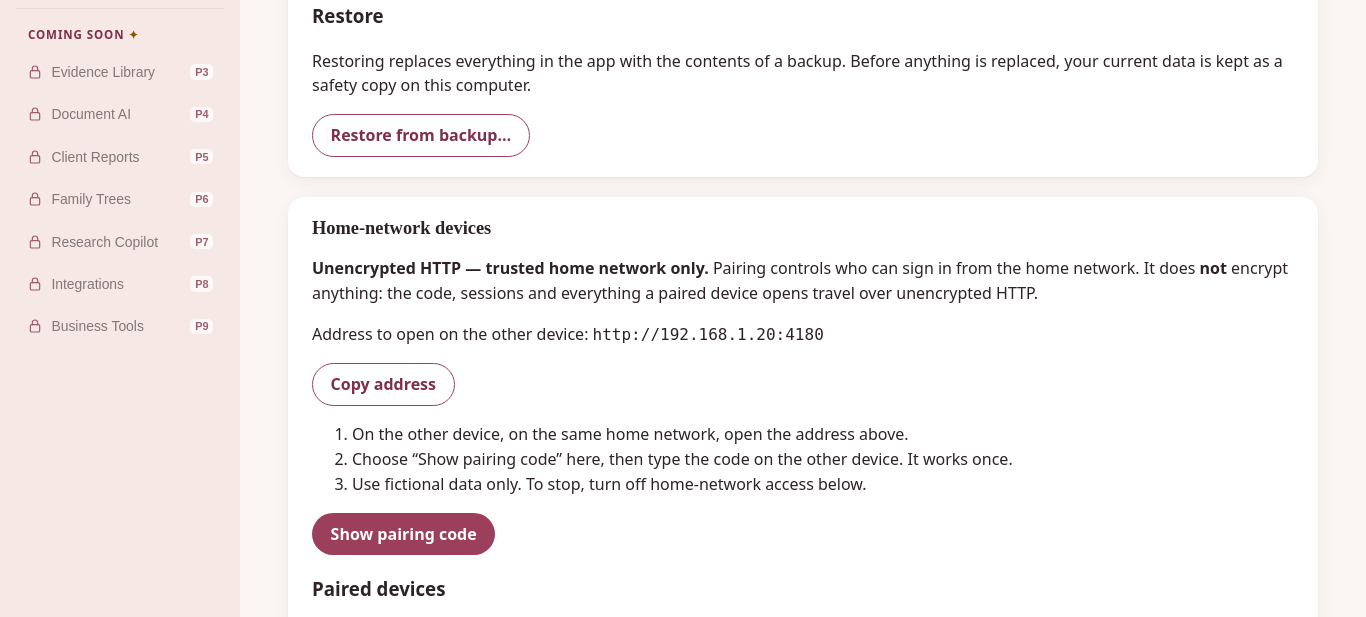
it: host operational panel › says so when copying is not possible
(page scrolled)
Step 1. Click the button "Copy address" → (383, 385), box left=312, top=363, right=455, bottom=406
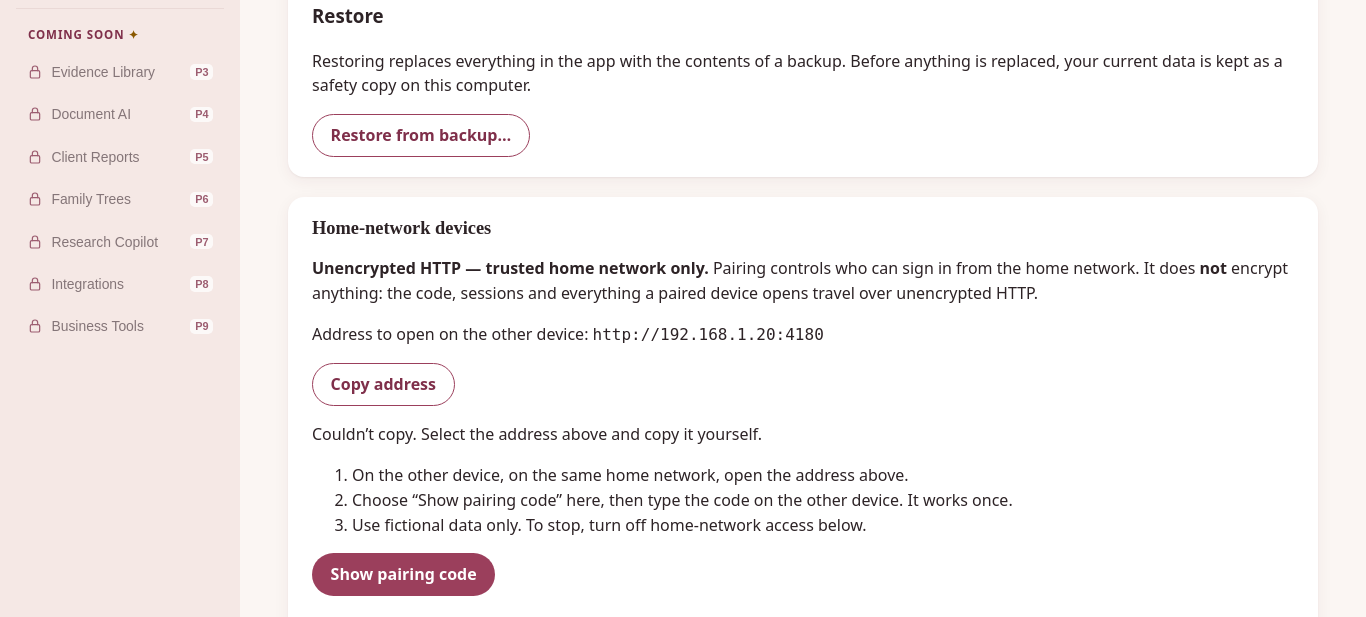
Result: the text "Couldn’t copy. Select the address above and copy it yourself." is shown at left=312, top=423, right=762, bottom=445
